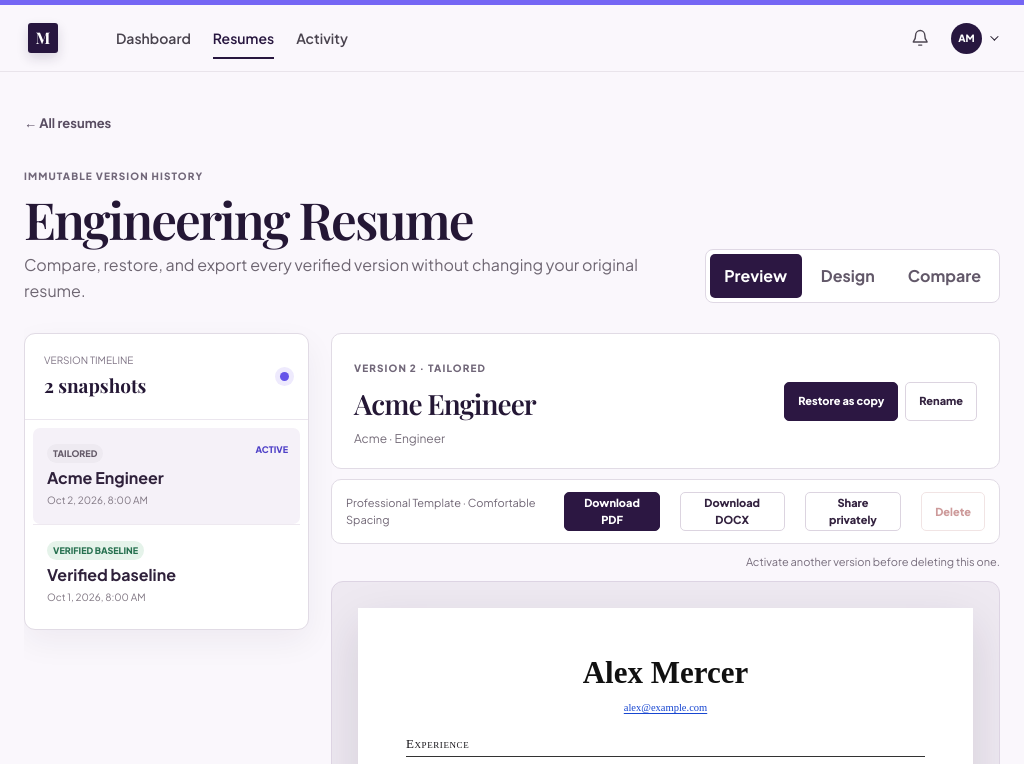
it: ResumeVersionHistoryPage › creates and revokes a private link for the selected version
The width and height of the screenshot is (1024, 764).
Expected: the heading "Alex Mercer" is shown, [583,655,748,690]
Click the button "Share privately".
click(853, 512)  # box [805,492,901,531]
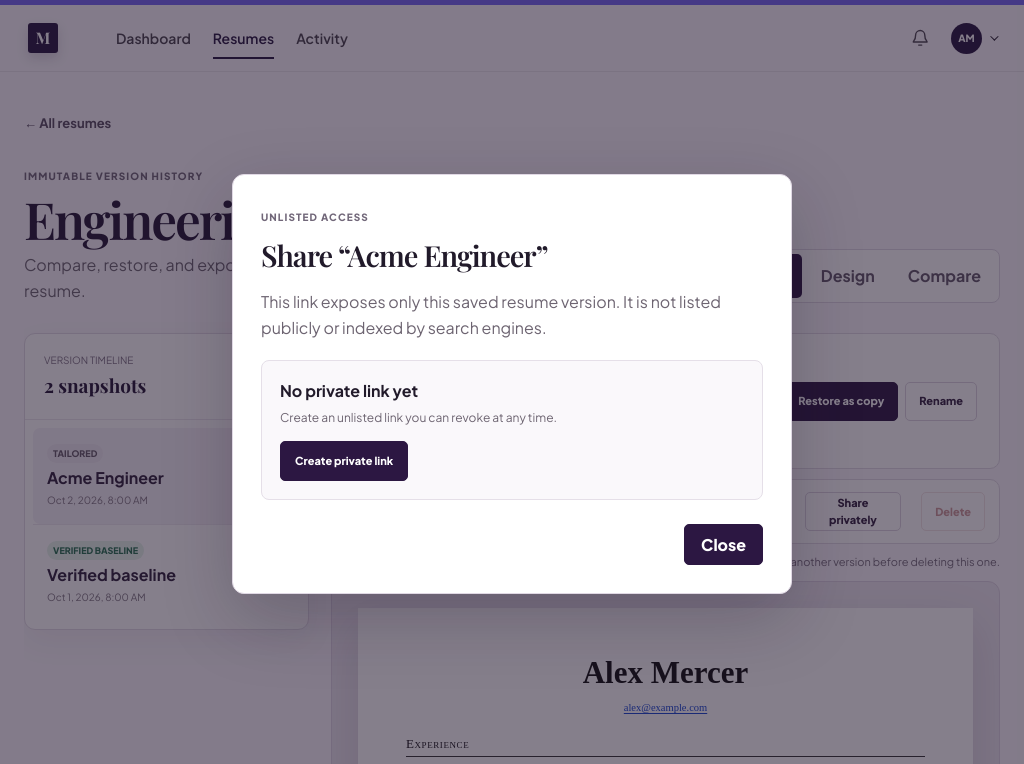
Expected: the text "No private link yet" is shown, [280,380,418,401]
Click the button "Create private link".
click(344, 461)  # box [280,441,408,481]
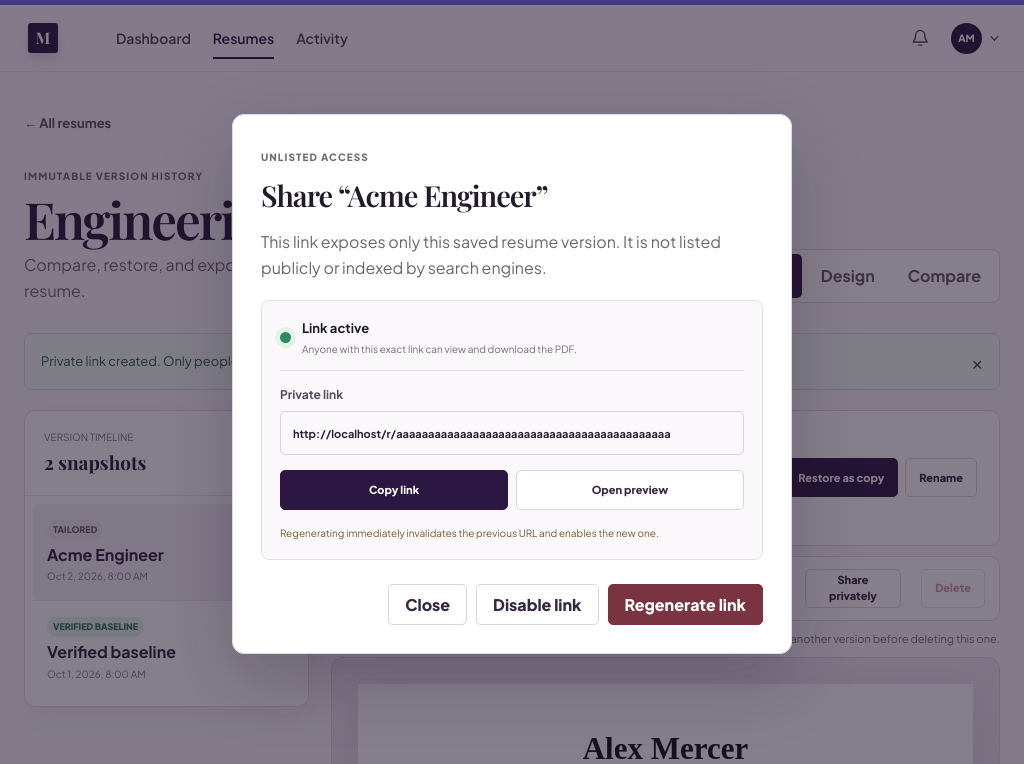
Expected: the text "Link active" is shown, [302,320,369,336]
Expected: the field showing "Private link" is shown, [280,411,744,455]
Click the button "Disable link".
click(537, 605)  # box [476,584,598,625]
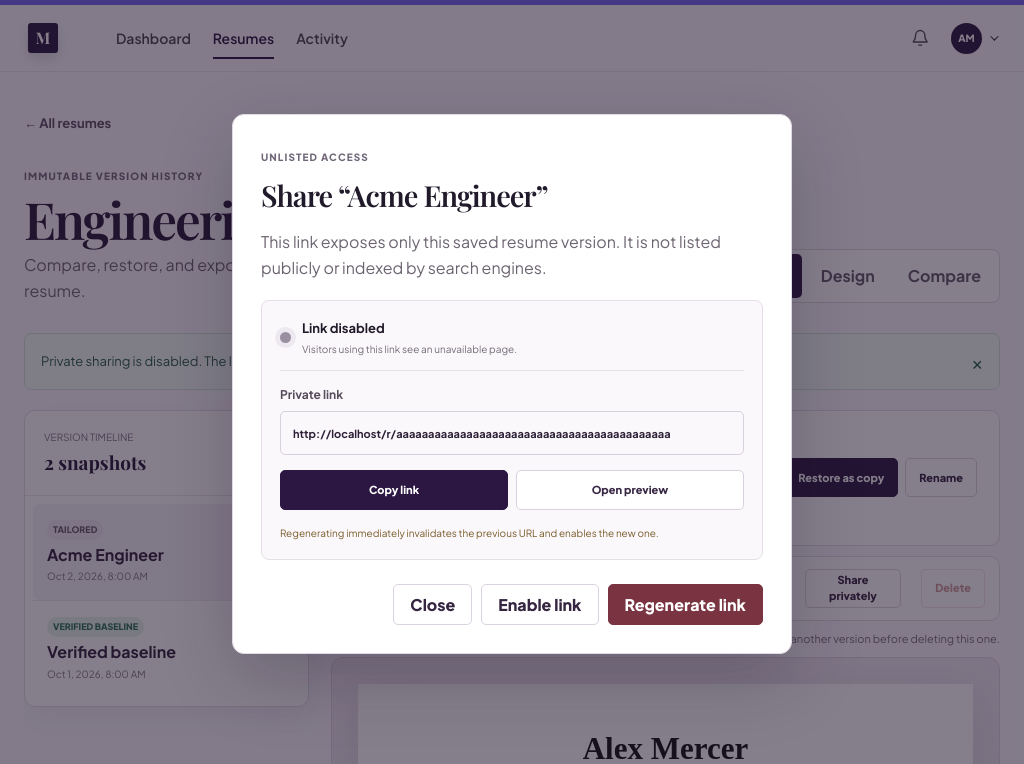
Expected: the text "Link disabled" is shown, [302,320,385,336]
